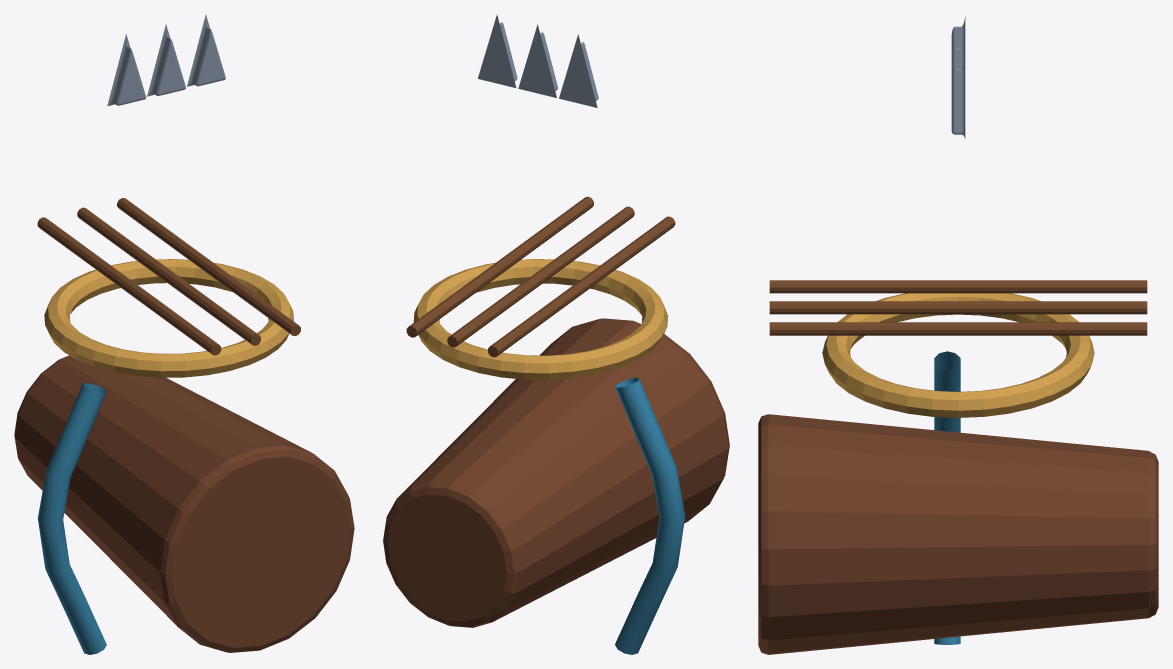
Rendered from offhand_horizon_quiver.glb.
3 views of the same model, side by side, from view 1: azimuth 30°, elevation 25°; view 2: azimuth 150°, elevation 25°; view 3: azimuth 270°, elevation 25° (orthographic). The views are drawn at different scales.
Visible parts, largest first — view 1: QuiverBody, QuiverRim, Strap, ArrowShaft, ArrowShaft.001, ArrowShaft.002, ArrowHead.002, ArrowHead, ArrowHead.001; view 2: QuiverBody, QuiverRim, Strap, ArrowShaft.001, ArrowShaft, ArrowShaft.002, ArrowHead.002, ArrowHead, ArrowHead.001; view 3: QuiverBody, QuiverRim, ArrowShaft.002, ArrowShaft, ArrowShaft.001, Strap, ArrowHead.002.
Part boxes in pixels (x1=…): QuiverBody: x1=14, y1=355, x2=354, y2=652; QuiverRim: x1=44, y1=259, x2=293, y2=377; Strap: x1=37, y1=383, x2=106, y2=654; ArrowShaft: x1=37, y1=217, x2=221, y2=355; ArrowShaft.001: x1=77, y1=207, x2=260, y2=345; ArrowShaft.002: x1=117, y1=198, x2=300, y2=335; ArrowHead.002: x1=187, y1=14, x2=225, y2=86; ArrowHead: x1=107, y1=34, x2=146, y2=106; ArrowHead.001: x1=147, y1=24, x2=185, y2=96; QuiverBody: x1=383, y1=318, x2=729, y2=627; QuiverRim: x1=413, y1=259, x2=668, y2=379; Strap: x1=615, y1=377, x2=685, y2=654; ArrowShaft.001: x1=447, y1=206, x2=634, y2=347; ArrowShaft: x1=488, y1=216, x2=675, y2=357; ArrowShaft.002: x1=406, y1=196, x2=593, y2=337; ArrowHead.002: x1=477, y1=14, x2=517, y2=87; ArrowHead: x1=559, y1=34, x2=598, y2=107; ArrowHead.001: x1=518, y1=24, x2=557, y2=97; QuiverBody: x1=758, y1=414, x2=1158, y2=654; QuiverRim: x1=822, y1=293, x2=1094, y2=417; ArrowShaft.002: x1=769, y1=322, x2=1147, y2=335; ArrowShaft: x1=769, y1=280, x2=1147, y2=293; ArrowShaft.001: x1=769, y1=301, x2=1147, y2=314; Strap: x1=934, y1=351, x2=960, y2=644; ArrowHead.002: x1=951, y1=59, x2=965, y2=138.
Bounding box in the file's own units: 0.55 × 1.3 × 0.72.
